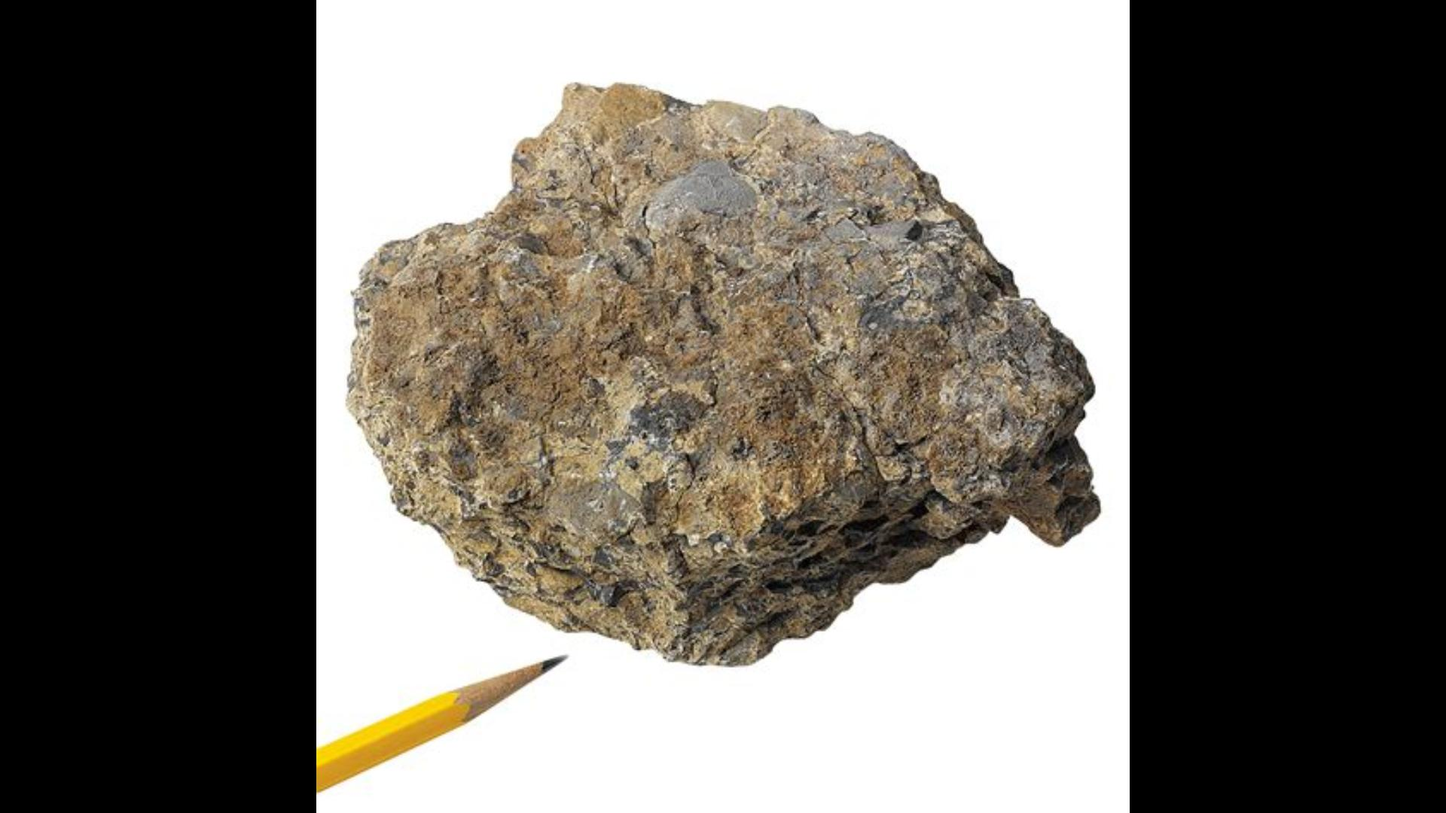rock: (349, 86, 1097, 662)
